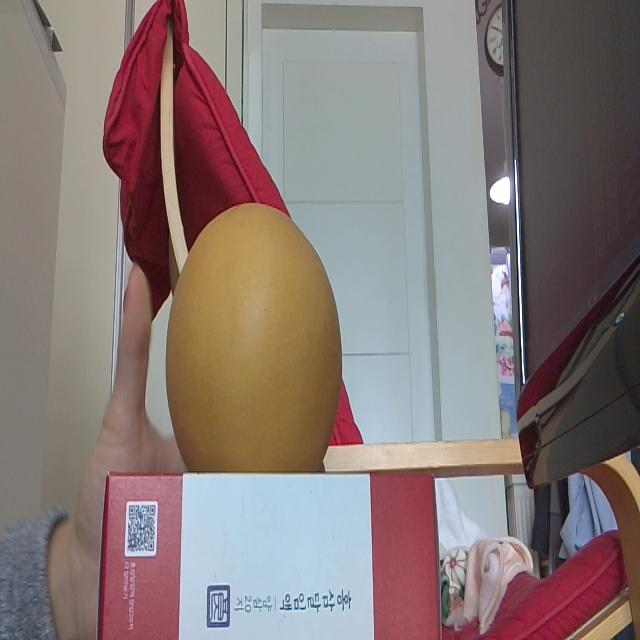pear: (165, 200, 343, 473)
